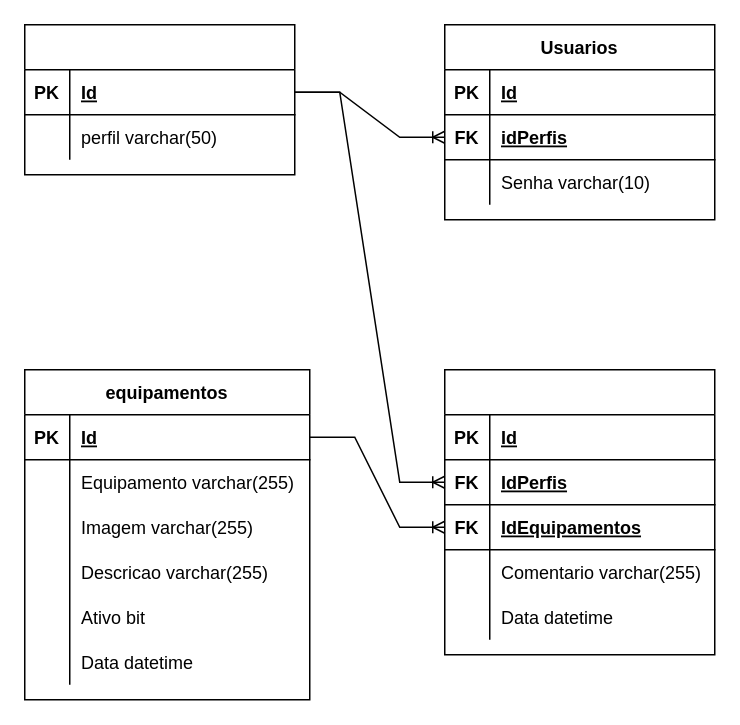
The diagram is 740 pixels wide and 725 high, and some of its shapes have lost their labels. Here are the shapes that lost their labels. From the top down, the box of each, then its label:
(23, 23, 295, 175): Perfis
(443, 368, 715, 655): comentarios
